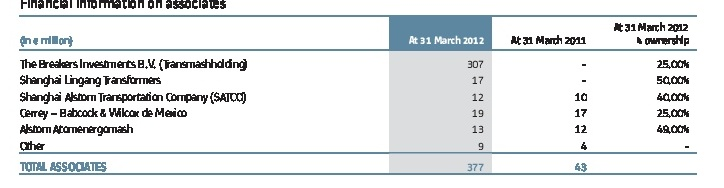table: (0, 0, 724, 188)
